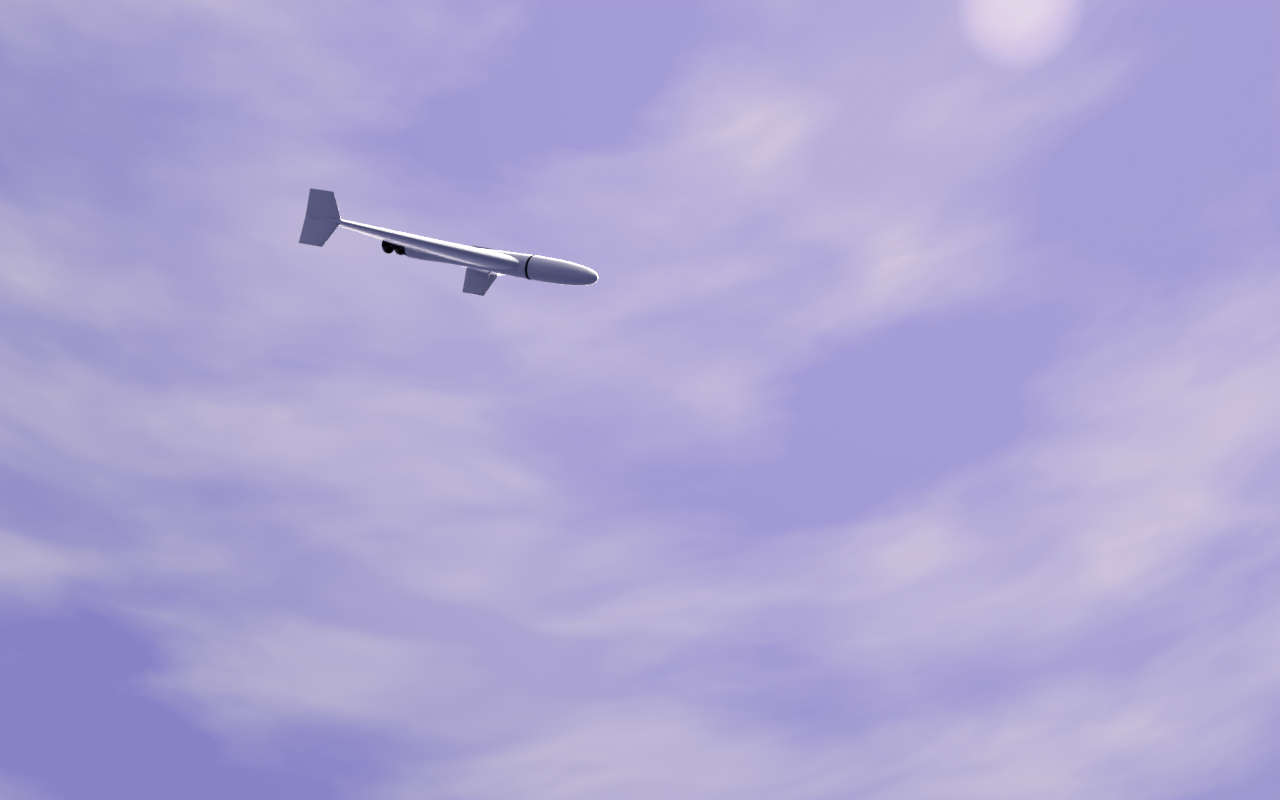shahed: (299, 188, 600, 298)
